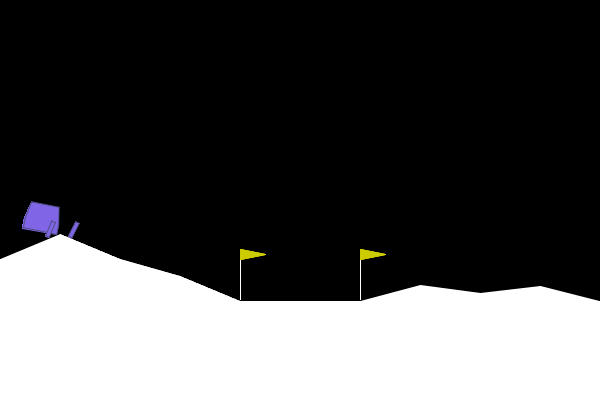lander: (11, 203, 83, 268)
